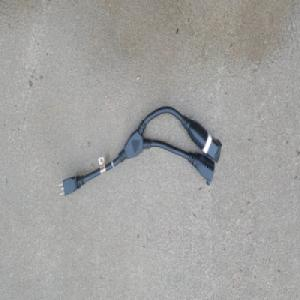Wire: (57, 105, 222, 198)
